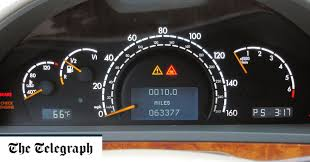Digital_Meter: (130, 86, 200, 121)
